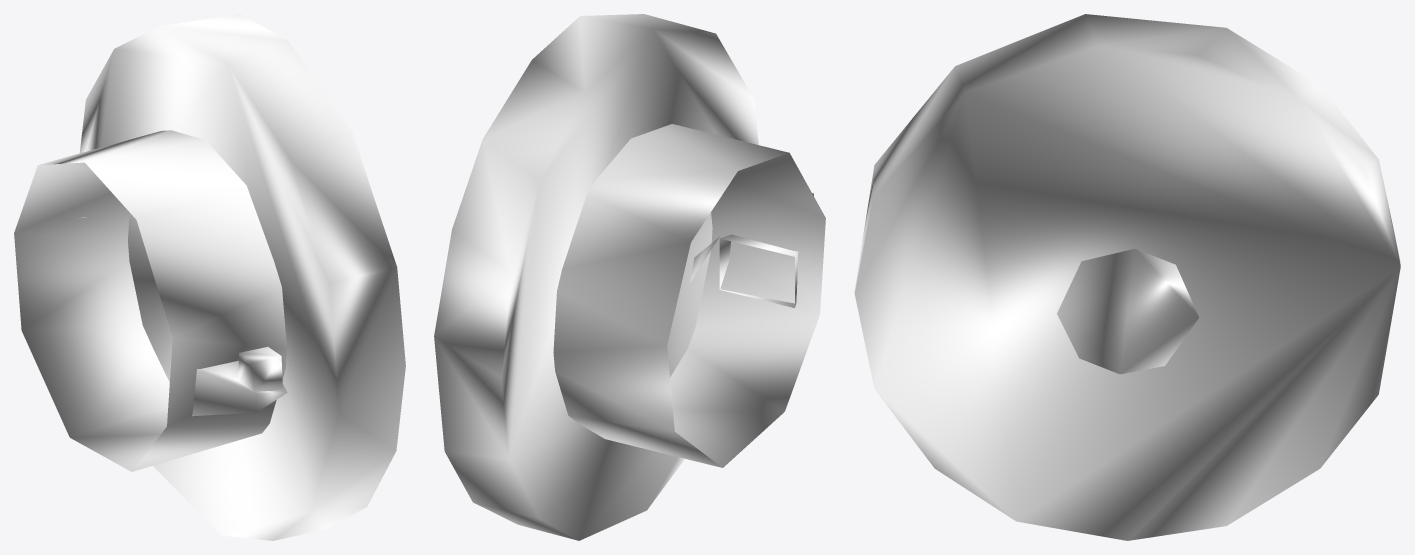
3 renders of one model, left to right at view 1: azimuth 30°, elevation 25°; view 2: azimuth 150°, elevation 25°; view 3: azimuth 270°, elevation 25°, orthographic. The views are drawn at different scales.
Bounding box in the file's own units: 0.1579 × 0.3344 × 0.3345.
1 material, 1 textured.
